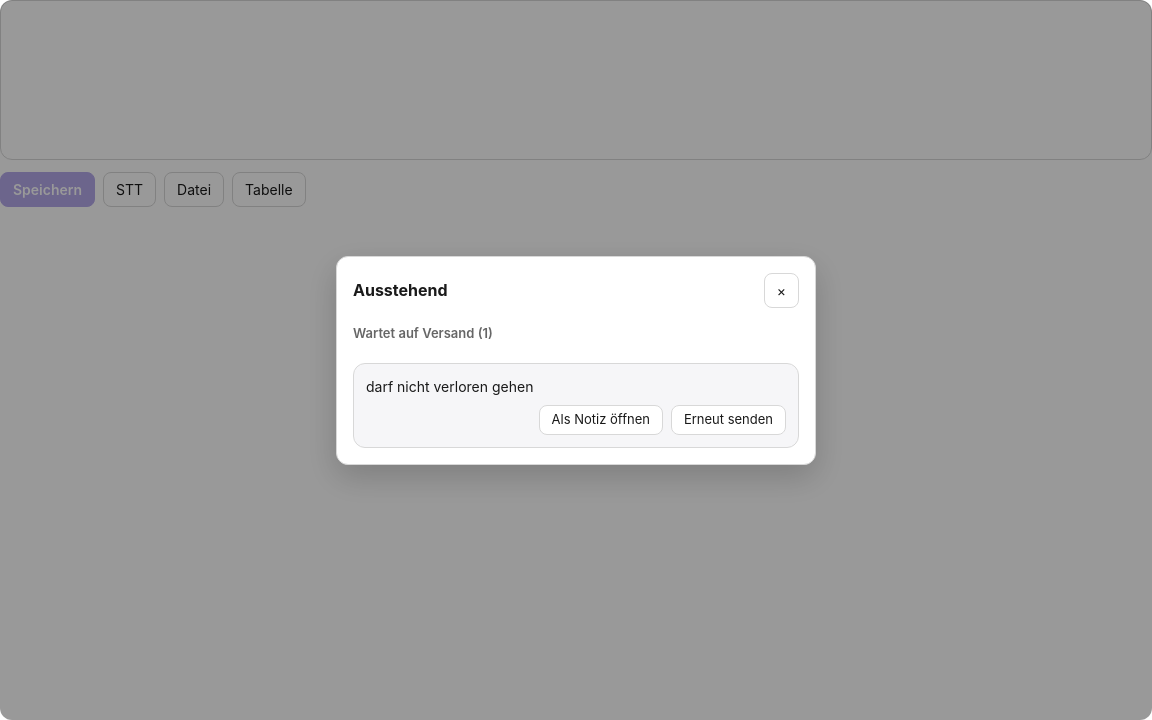
Test: CaptureView › Speichern never loses a note › Als Notiz öffnen keeps both copies when the new tab could not be persisted, so a restart still has the note
Click the button "Als Notiz öffnen" at (601, 420), box 539,405 -> 663,434
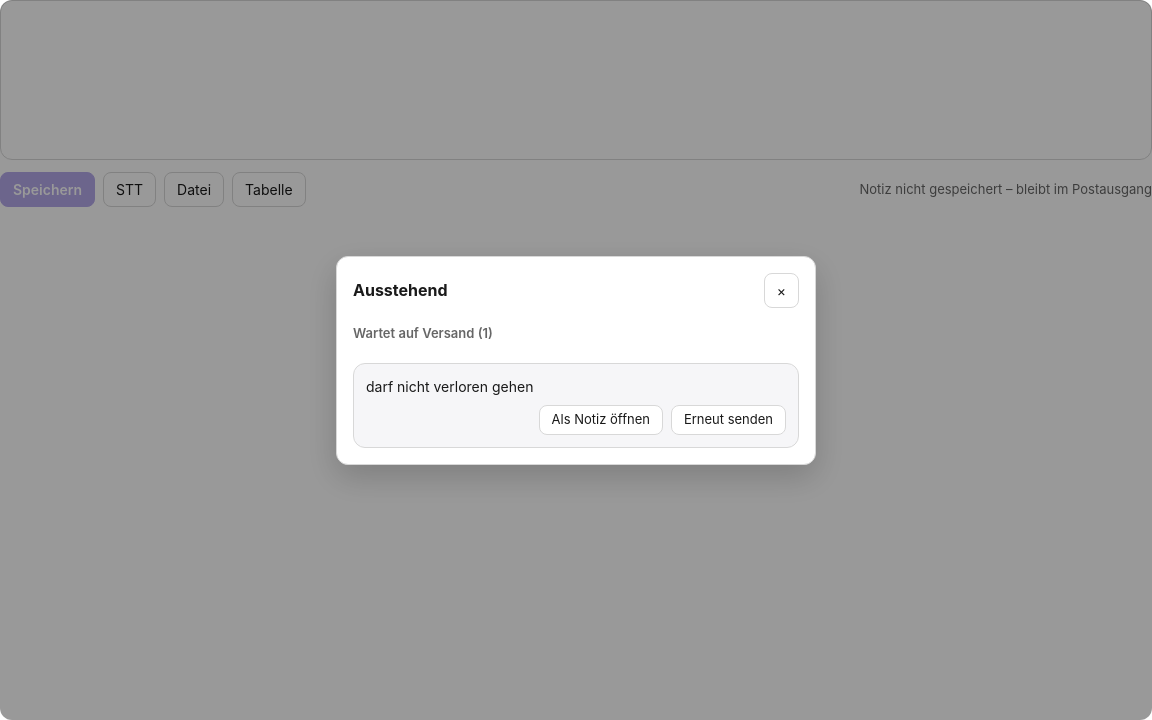
Expected: the message shows "nicht gespeichert", 860,181 -> 1151,197
